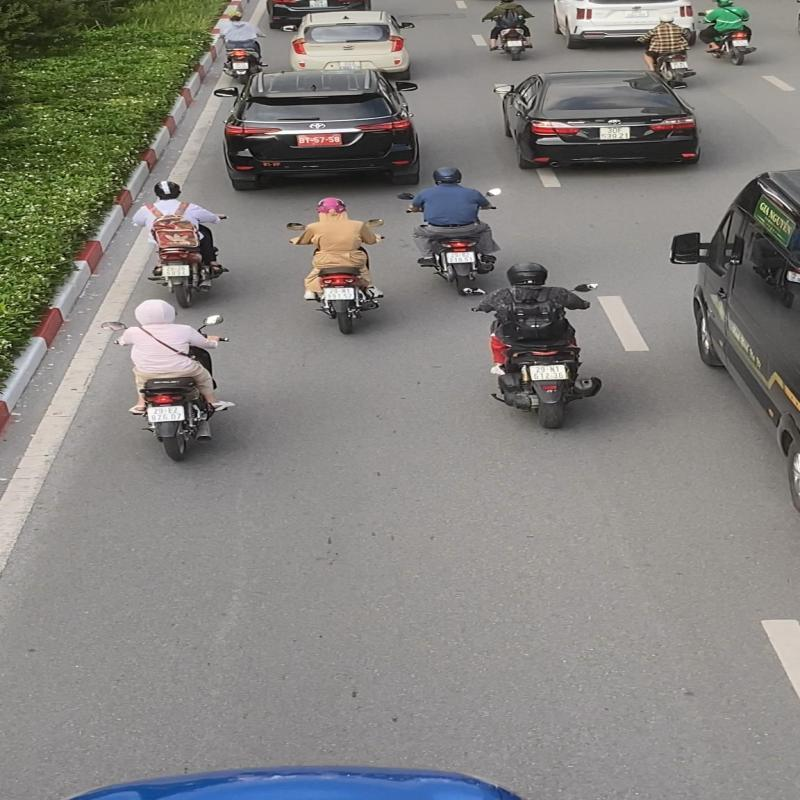helmet: (502, 262, 552, 286), (150, 178, 184, 200), (315, 196, 349, 216), (432, 165, 464, 185)
licenseplate: (527, 363, 570, 382), (322, 286, 358, 302), (444, 250, 478, 264), (160, 264, 193, 278)
